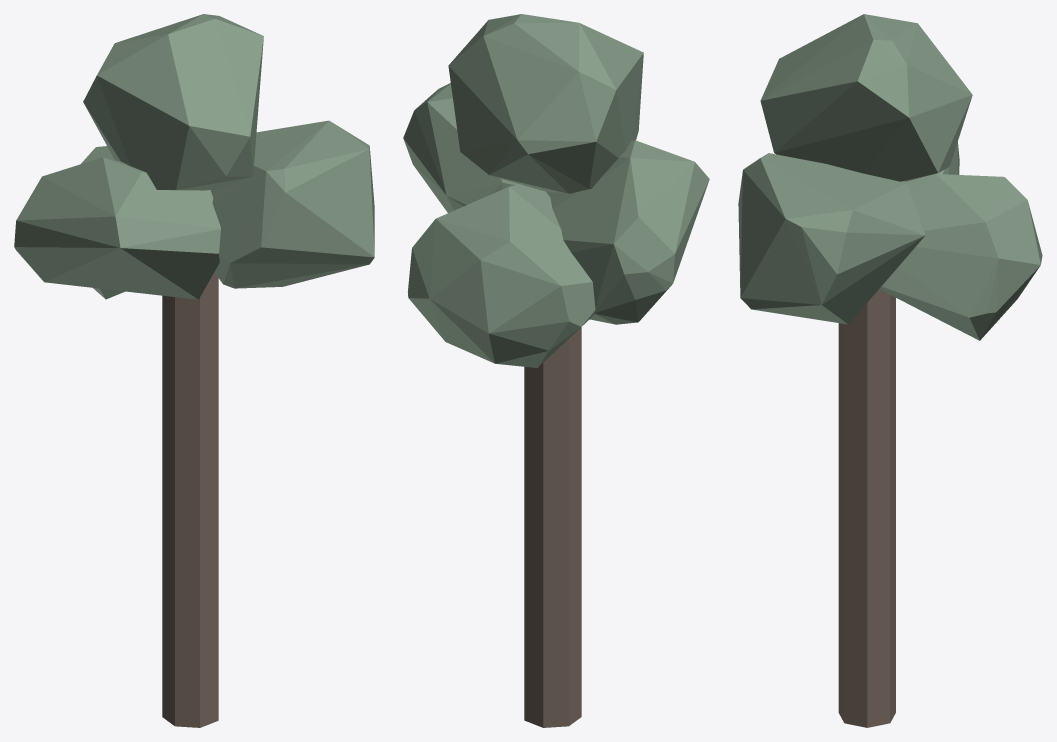
File: arvore_alta_sombria.glb
3 views of the same model, side by side, from view 1: azimuth 30°, elevation 25°; view 2: azimuth 150°, elevation 25°; view 3: azimuth 270°, elevation 25° (orthographic).
Parts seen in each view (by area): view 1: arvore_alta_sombria_part_000, arvore_alta_sombria_part_003, arvore_alta_sombria_part_001, arvore_alta_sombria_part_002; view 2: arvore_alta_sombria_part_003, arvore_alta_sombria_part_004, arvore_alta_sombria_part_000, arvore_alta_sombria_part_001, arvore_alta_sombria_part_002; view 3: arvore_alta_sombria_part_003, arvore_alta_sombria_part_002, arvore_alta_sombria_part_000, arvore_alta_sombria_part_004.
Part boxes in pixels (<box>): arvore_alta_sombria_part_000: <box>162,272,218,727</box>; arvore_alta_sombria_part_003: <box>83,14,263,190</box>; arvore_alta_sombria_part_001: <box>14,157,220,299</box>; arvore_alta_sombria_part_002: <box>211,120,374,288</box>; arvore_alta_sombria_part_003: <box>448,14,643,193</box>; arvore_alta_sombria_part_004: <box>408,184,595,367</box>; arvore_alta_sombria_part_000: <box>524,327,581,727</box>; arvore_alta_sombria_part_001: <box>547,140,709,324</box>; arvore_alta_sombria_part_002: <box>403,83,546,212</box>; arvore_alta_sombria_part_003: <box>760,14,972,181</box>; arvore_alta_sombria_part_002: <box>738,153,925,324</box>; arvore_alta_sombria_part_000: <box>838,289,895,727</box>; arvore_alta_sombria_part_004: <box>879,174,1042,340</box>.
Size of the model in its own units: 2.93 by 6.22 by 2.49.
